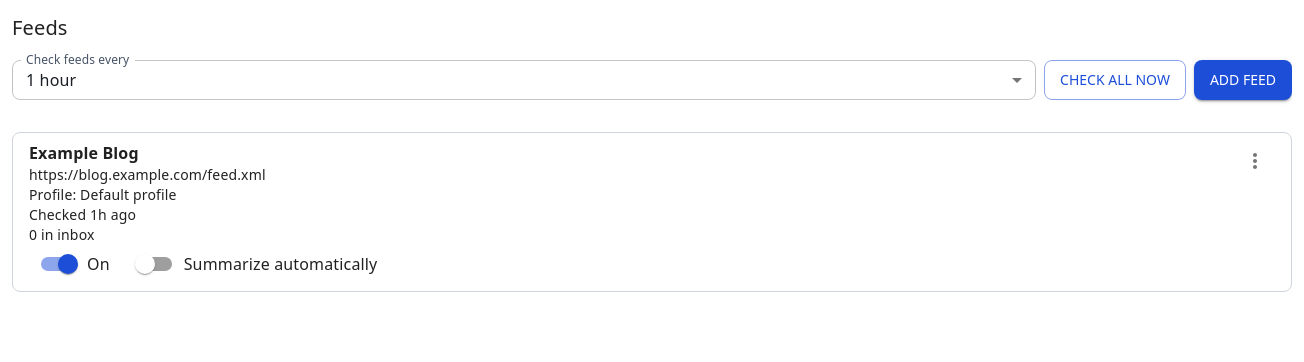
Test: FeedSettings › offers the six intervals
Click the dropdown named "Check feeds every" at (51, 80), box top-left (26, 68), bottom-right (76, 90)
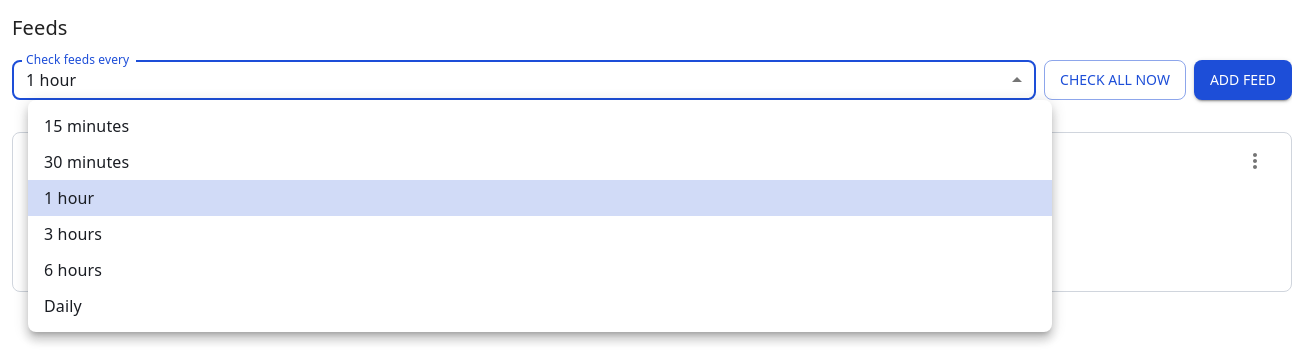
Now the options read "15 minutes", "30 minutes", "1 hour", "3 hours", "6 hours", "Daily", in this order, box top-left (44, 115), bottom-right (129, 137); top-left (44, 151), bottom-right (129, 173); top-left (28, 180), bottom-right (1052, 216); top-left (44, 223), bottom-right (102, 245); top-left (44, 259), bottom-right (102, 281); top-left (44, 295), bottom-right (82, 317)
